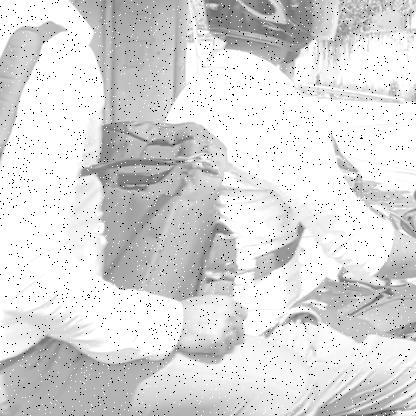motorcycle: (0, 136, 416, 416)
